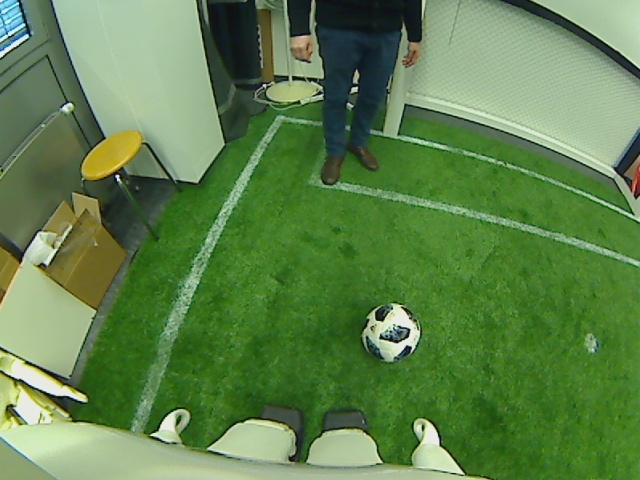ball: (359, 302, 423, 364)
